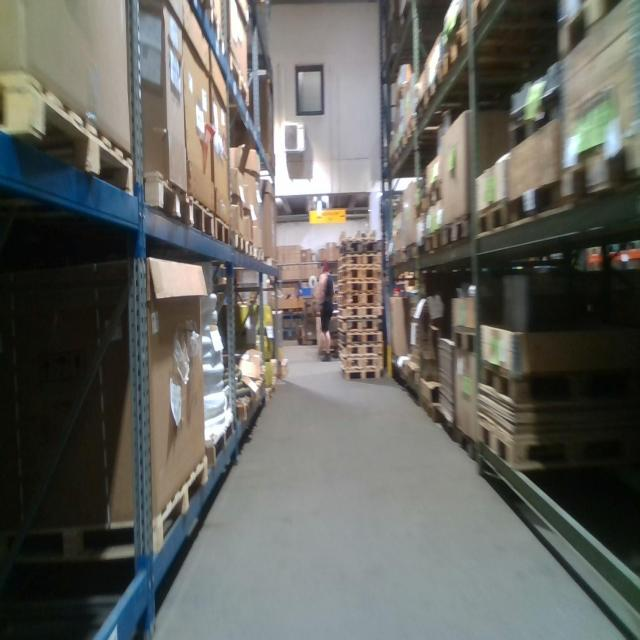pallet: (31, 454, 210, 561), (0, 72, 135, 203), (479, 355, 593, 405), (478, 413, 577, 467), (509, 173, 567, 243), (506, 93, 563, 152), (561, 147, 615, 209), (141, 168, 191, 233), (201, 417, 237, 472), (443, 19, 472, 82), (476, 193, 510, 244), (188, 193, 215, 244), (228, 53, 251, 111), (445, 211, 474, 256), (424, 55, 442, 124), (451, 323, 480, 355), (339, 357, 384, 376), (338, 251, 382, 270), (454, 431, 480, 462), (421, 227, 445, 259), (337, 265, 385, 281), (472, 2, 494, 34), (234, 392, 258, 421), (336, 281, 381, 296), (338, 292, 380, 308), (337, 317, 380, 332), (338, 238, 382, 251), (421, 397, 442, 423), (426, 184, 445, 211), (339, 347, 383, 358), (338, 306, 380, 317), (340, 334, 381, 345), (343, 369, 380, 381), (217, 217, 228, 255), (236, 226, 247, 260), (266, 256, 278, 270), (247, 241, 255, 261)
pallet_truck: (296, 291, 309, 348)
